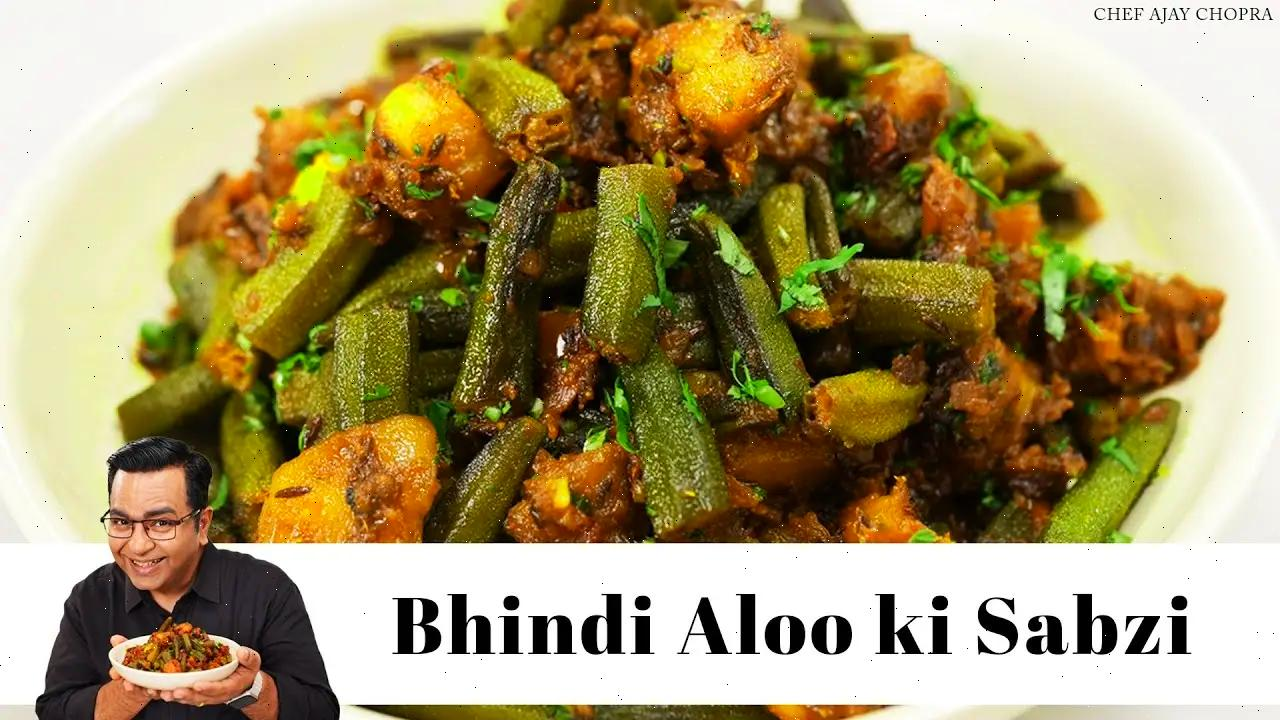bhindi: (269, 55, 1121, 547)
